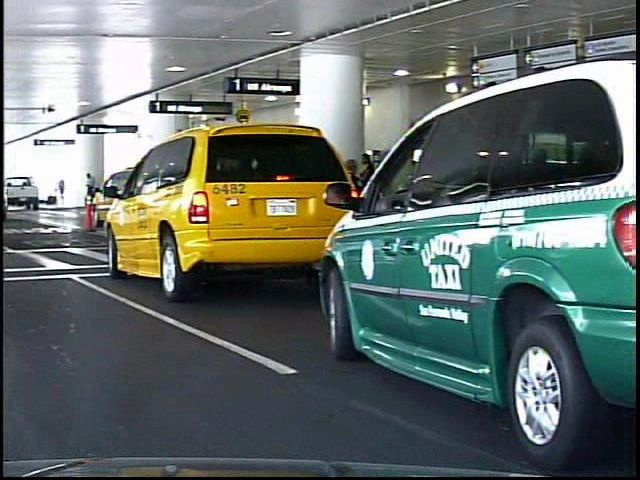person: (76, 172, 93, 210)
